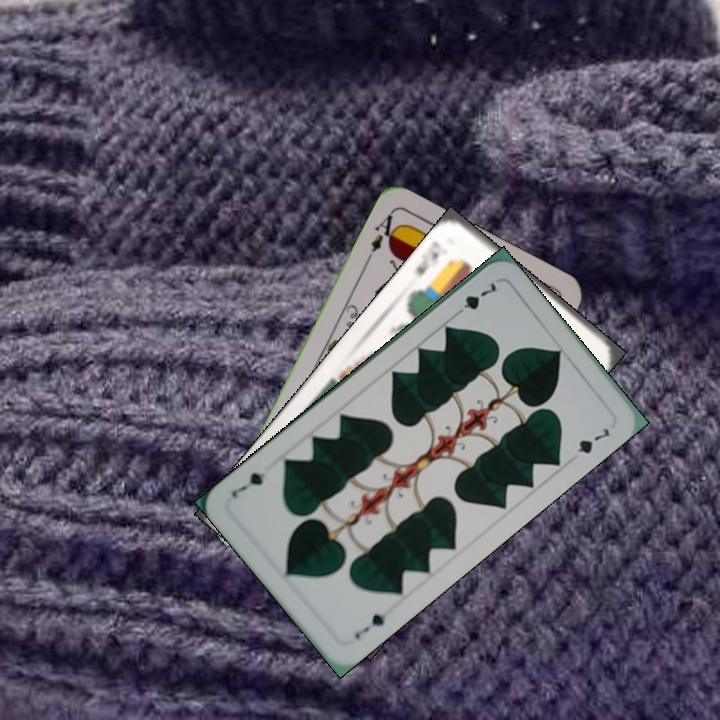EA: (366, 209, 402, 255)
EK: (411, 237, 442, 281)
G7: (450, 278, 502, 320), (350, 609, 389, 643)
